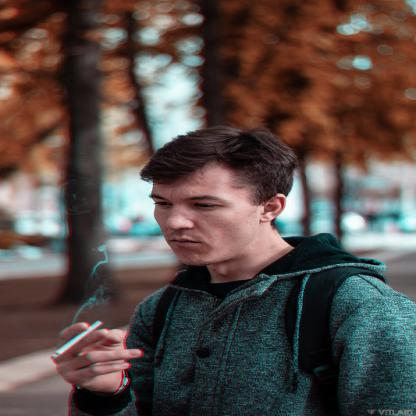smoking: (51, 321, 103, 359)
